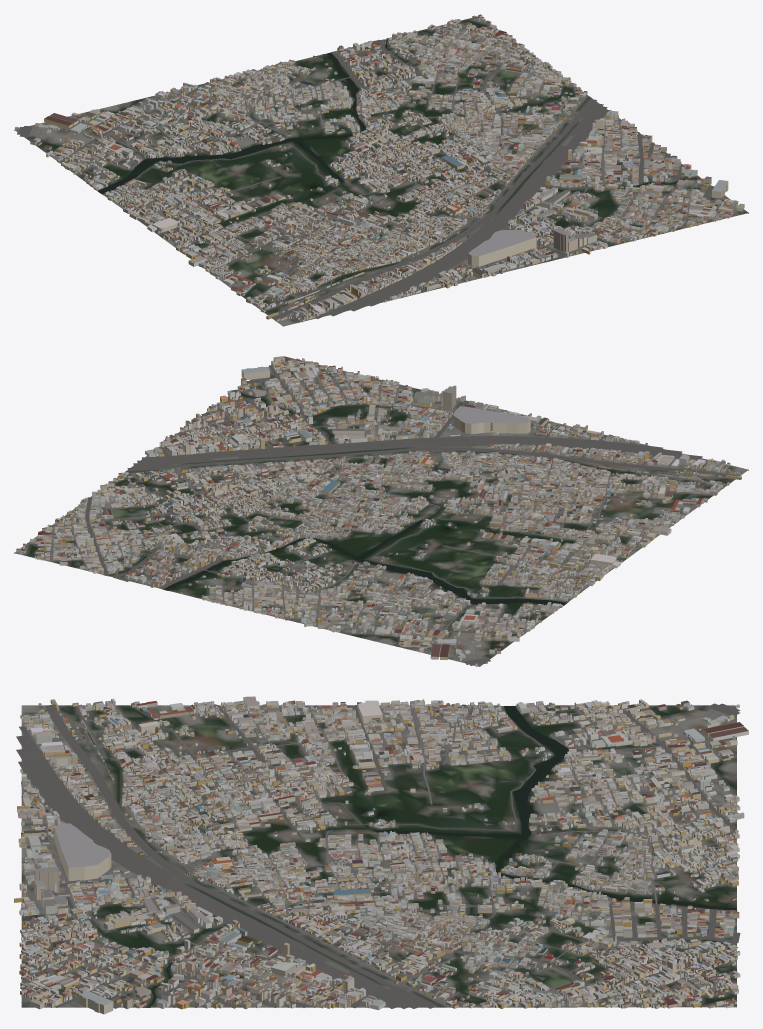
The picture shows the model from 3 angles, top to bottom: view 1: azimuth 30°, elevation 25°; view 2: azimuth 150°, elevation 25°; view 3: azimuth 270°, elevation 25°; orthographic projection. The views are drawn at different scales.
Visible parts, largest first — view 1: buildings, ground, roads, water; view 2: buildings, ground, roads, water; view 3: buildings, ground, roads, water.
Boxes of the visible parts, x1,y1,x2,y2 form: buildings: (15, 14, 744, 322); ground: (14, 16, 748, 326); roads: (17, 18, 744, 319); water: (98, 39, 697, 193); buildings: (16, 356, 742, 666); ground: (14, 356, 748, 666); roads: (22, 357, 739, 665); water: (109, 393, 566, 605); buildings: (14, 696, 748, 1014); ground: (21, 705, 736, 1007); roads: (16, 703, 740, 1008); water: (146, 706, 736, 1007).
Size of the model in its own units: 1451 by 54.17 by 1439.
